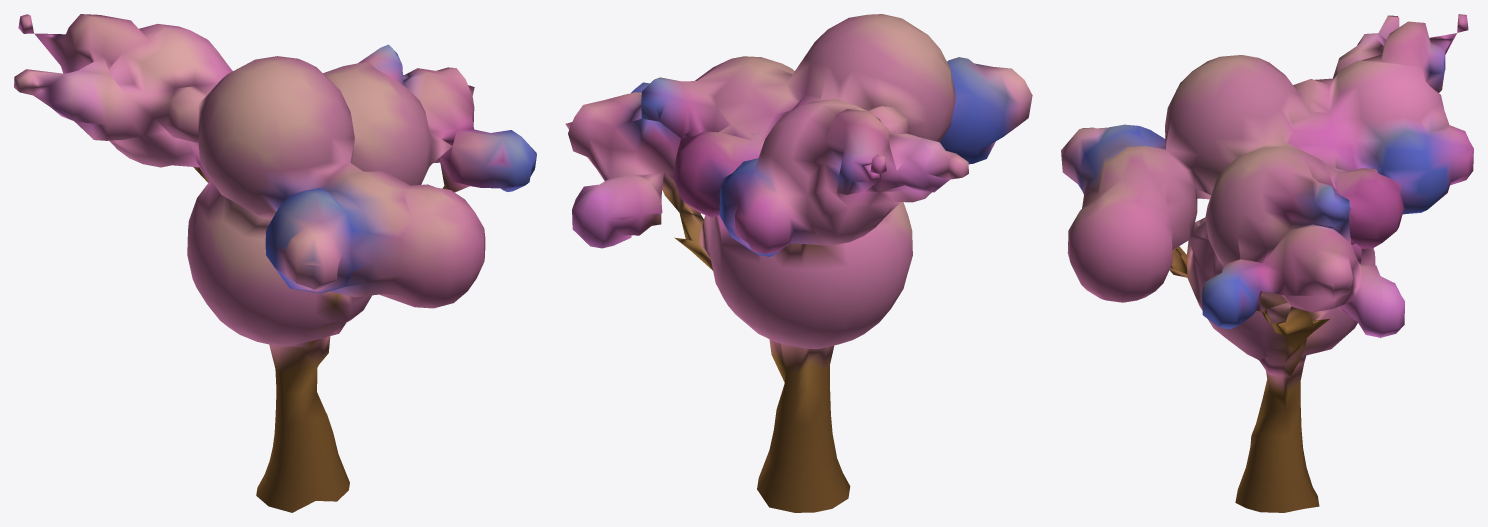
File: canopy-tree-233-lod2.obj
3 views of the same model, side by side, from view 1: azimuth 30°, elevation 25°; view 2: azimuth 150°, elevation 25°; view 3: azimuth 270°, elevation 25° (orthographic). The views are drawn at different scales.
Parts seen in each view (by area): view 1: simplified; view 2: simplified; view 3: simplified.
Boxes of the visible parts, left/top/right/bottom form: simplified: left=14, top=14, right=536, bottom=512; simplified: left=565, top=14, right=1032, bottom=512; simplified: left=1061, top=14, right=1473, bottom=512.
Bounding box in the file's own units: 481 × 493 × 440.
